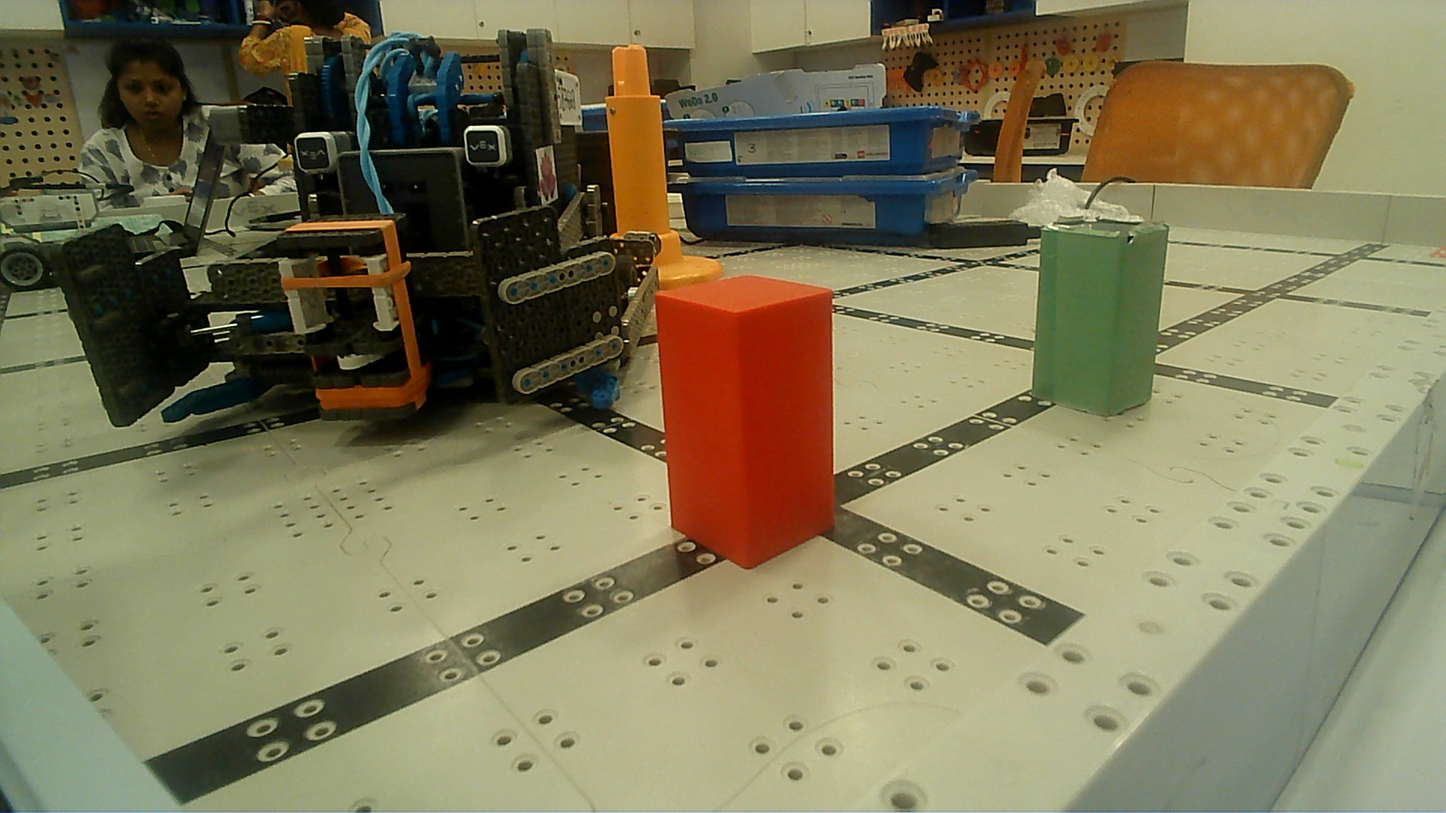green: (1030, 222, 1174, 420)
